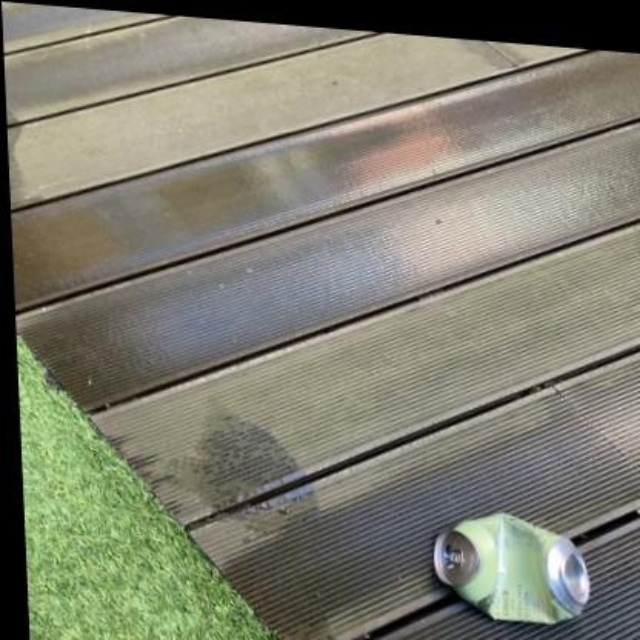trash: (434, 514, 588, 623)
